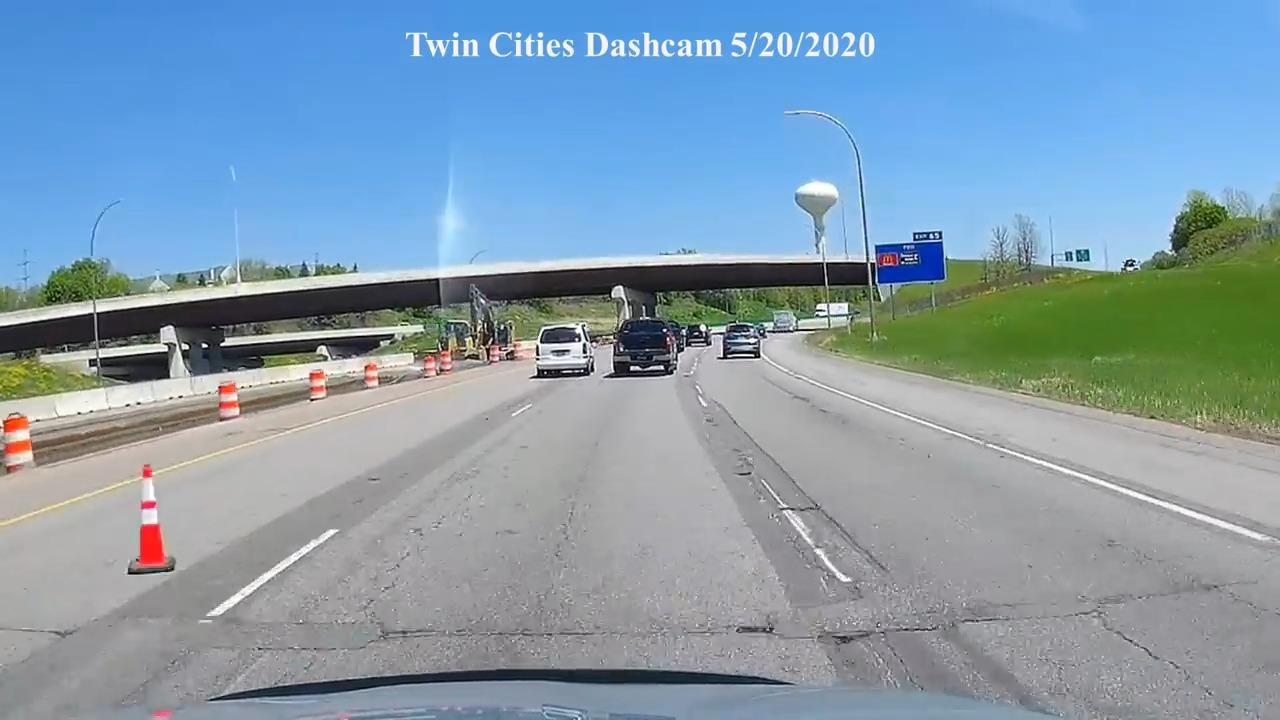car: (612, 317, 679, 376), (534, 323, 596, 378), (723, 323, 763, 359)
traffic cone: (127, 464, 176, 575), (1, 413, 35, 471), (216, 382, 242, 422), (308, 369, 328, 400), (363, 361, 380, 388), (422, 353, 438, 377), (438, 351, 453, 375)
